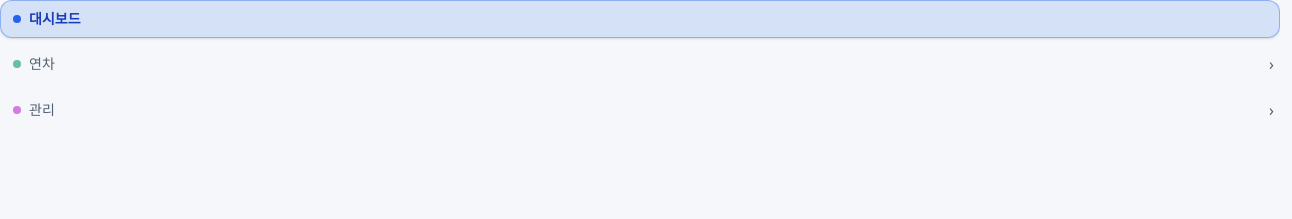
Test case: AppNav 아코디언 › 수동 토글은 단일 확장: 한 섹션 펼치면 다른 섹션 닫힘
Check: the text "사용자 관리" is not shown
Check: the text "연차 신청" is not shown
Step 1. Click the button named "관리 하위 메뉴" → (1272, 110), box [1263,90,1280,130]
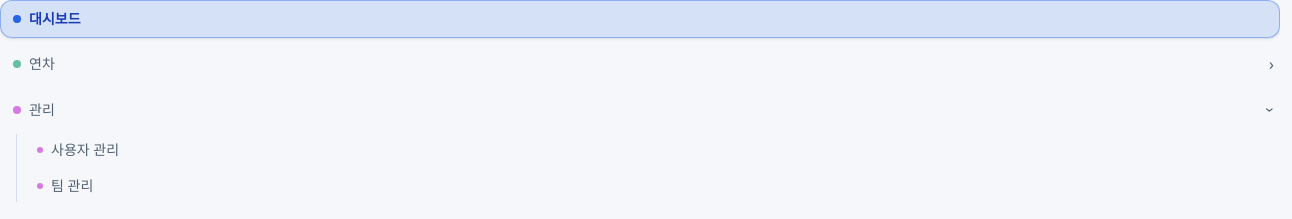
Check: the link "사용자 관리" is shown, box [37,140,119,159]
Step 2. Click the button named "연차 하위 메뉴" → (1272, 64), box [1263,44,1280,84]
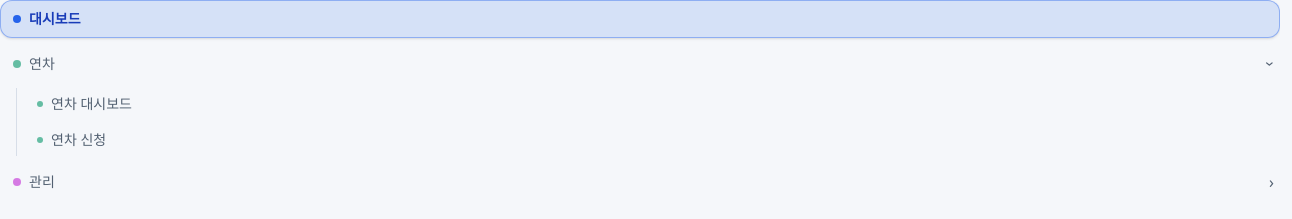
Check: the link "연차 신청" is shown, box [37,130,106,149]
Check: the link "사용자 관리" is gone
